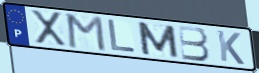B: (177, 24, 212, 62)
K: (215, 29, 246, 67)
L: (106, 18, 138, 54)
M: (135, 20, 181, 59), (66, 13, 108, 53)
X: (29, 9, 69, 48)
